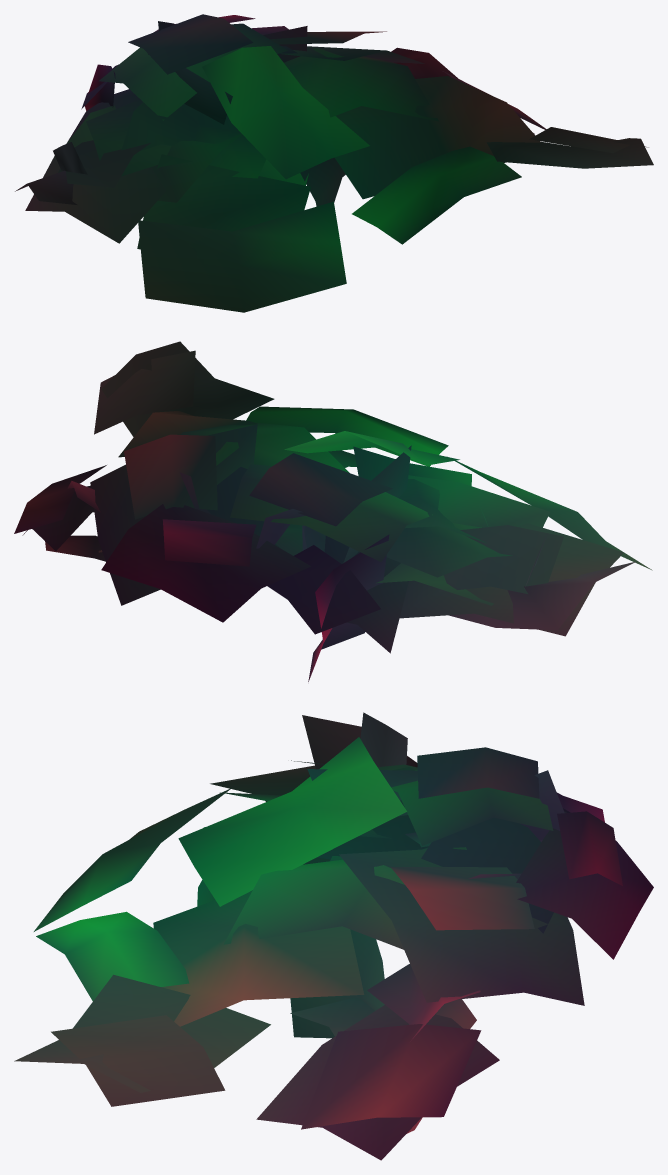
Rendered from p_mesh_pine01_part010_pose0.fbx.
The picture shows the model from 3 angles, top to bottom: view 1: azimuth 30°, elevation 25°; view 2: azimuth 150°, elevation 25°; view 3: azimuth 270°, elevation 25°; orthographic projection. The views are drawn at different scales.
Visible parts, largest first — view 1: p_mesh_pine01_p010_pose0; view 2: p_mesh_pine01_p010_pose0; view 3: p_mesh_pine01_p010_pose0.
Part boxes in pixels (bbox=[...]): p_mesh_pine01_p010_pose0: bbox=[15, 14, 653, 312]; p_mesh_pine01_p010_pose0: bbox=[14, 341, 652, 681]; p_mesh_pine01_p010_pose0: bbox=[14, 712, 653, 1160].
Size of the model in its own units: 48.47 by 15.43 by 36.91.
